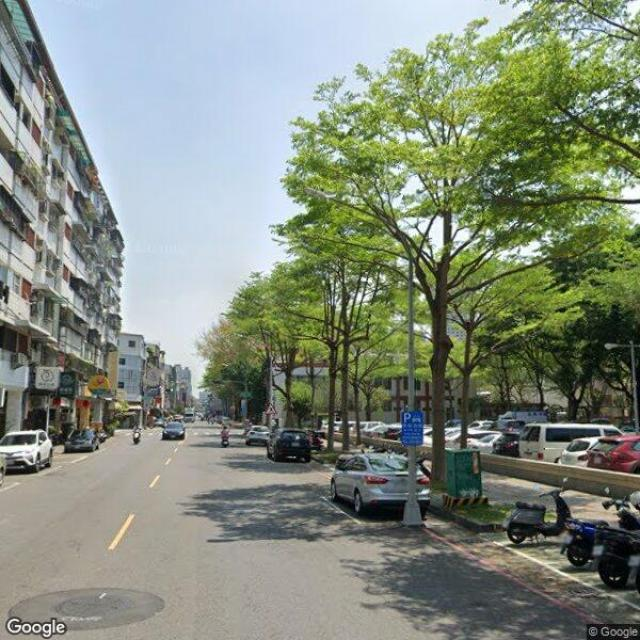Legalparking: (502, 489, 639, 587), (331, 450, 407, 513), (264, 429, 311, 461), (417, 470, 430, 517)
